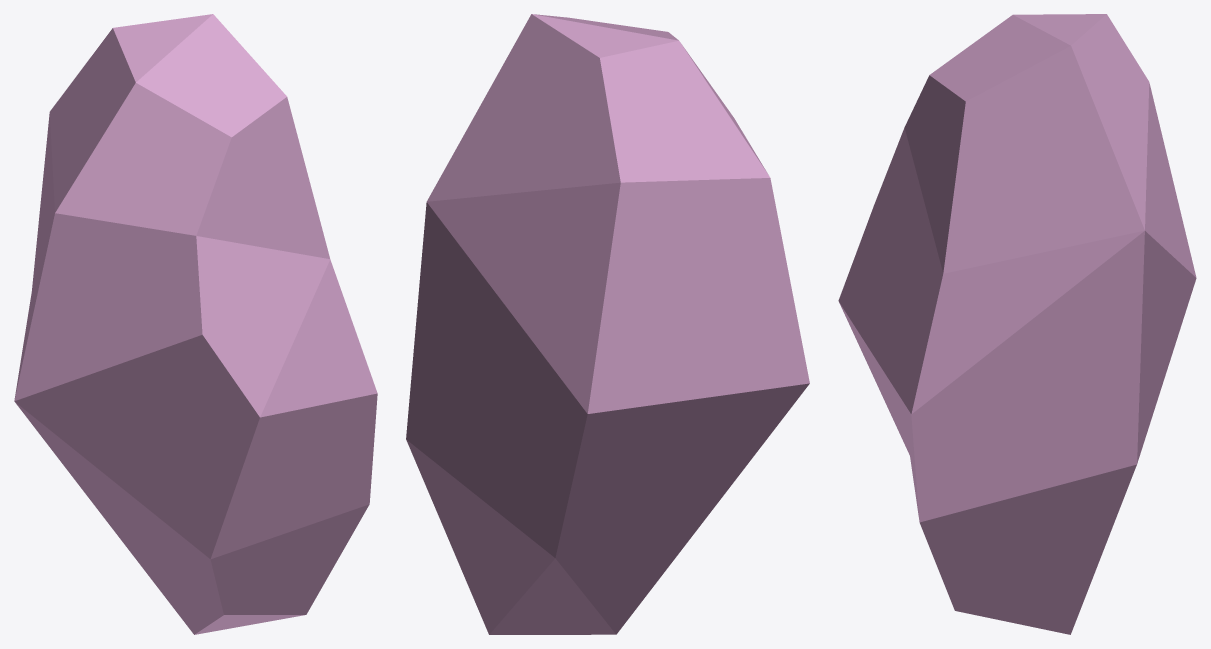
Rendered from item_pink.fbx.
3 views of the same model, side by side, from view 1: azimuth 30°, elevation 25°; view 2: azimuth 150°, elevation 25°; view 3: azimuth 270°, elevation 25° (orthographic). The views are drawn at different scales.
Visible parts, largest first — view 1: pCube1; view 2: pCube1; view 3: pCube1.
Boxes of the visible parts, x1,y1,x2,y2 form: pCube1: (14, 14, 377, 634); pCube1: (406, 14, 809, 634); pCube1: (838, 14, 1196, 634).
Size of the model in its own units: 0.4819 by 0.8676 by 0.4936.
